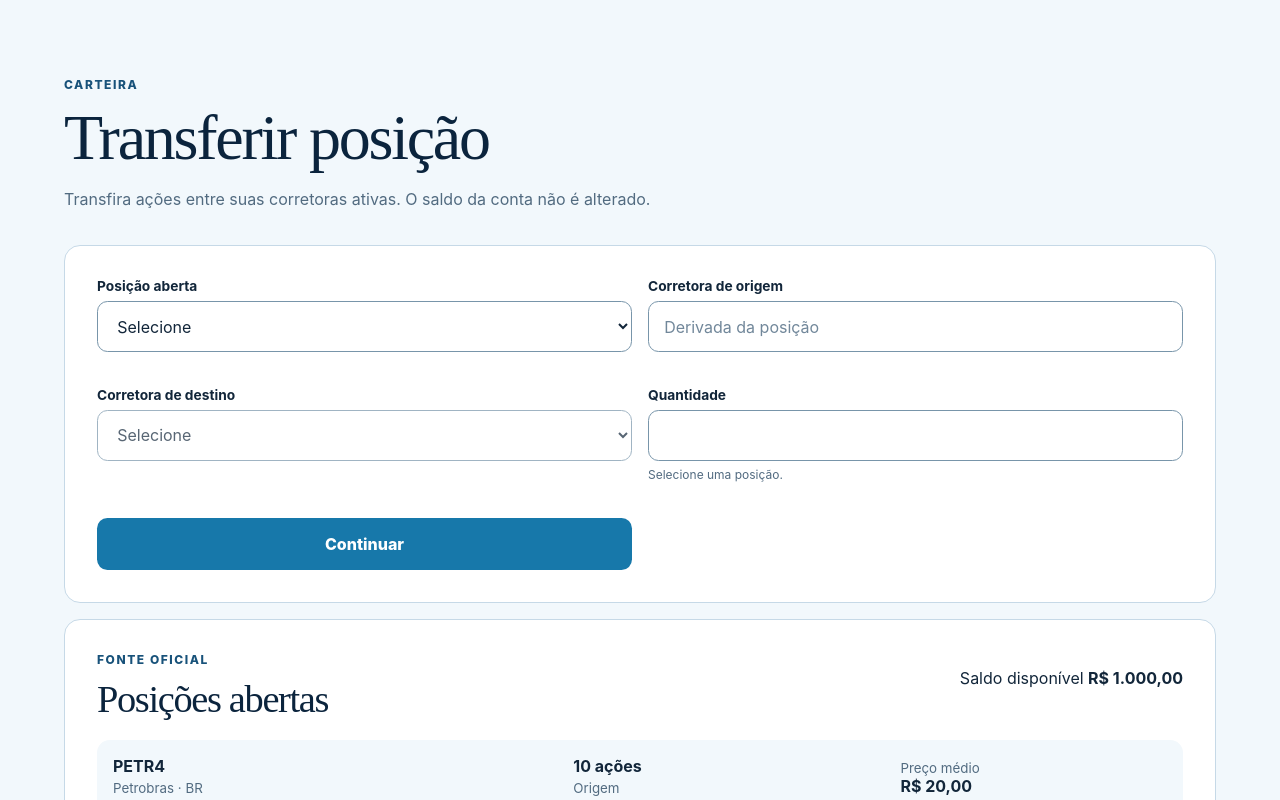
TransfersPage › orienta quando não existe destino distinto
Expected: the heading "Transferir posição" is shown, [64,102,489,173]
Select "PETR4 · Origem · 10 ações" in the dropdown labelled "Posição aberta" at (364, 326), box [97,301,632,352]
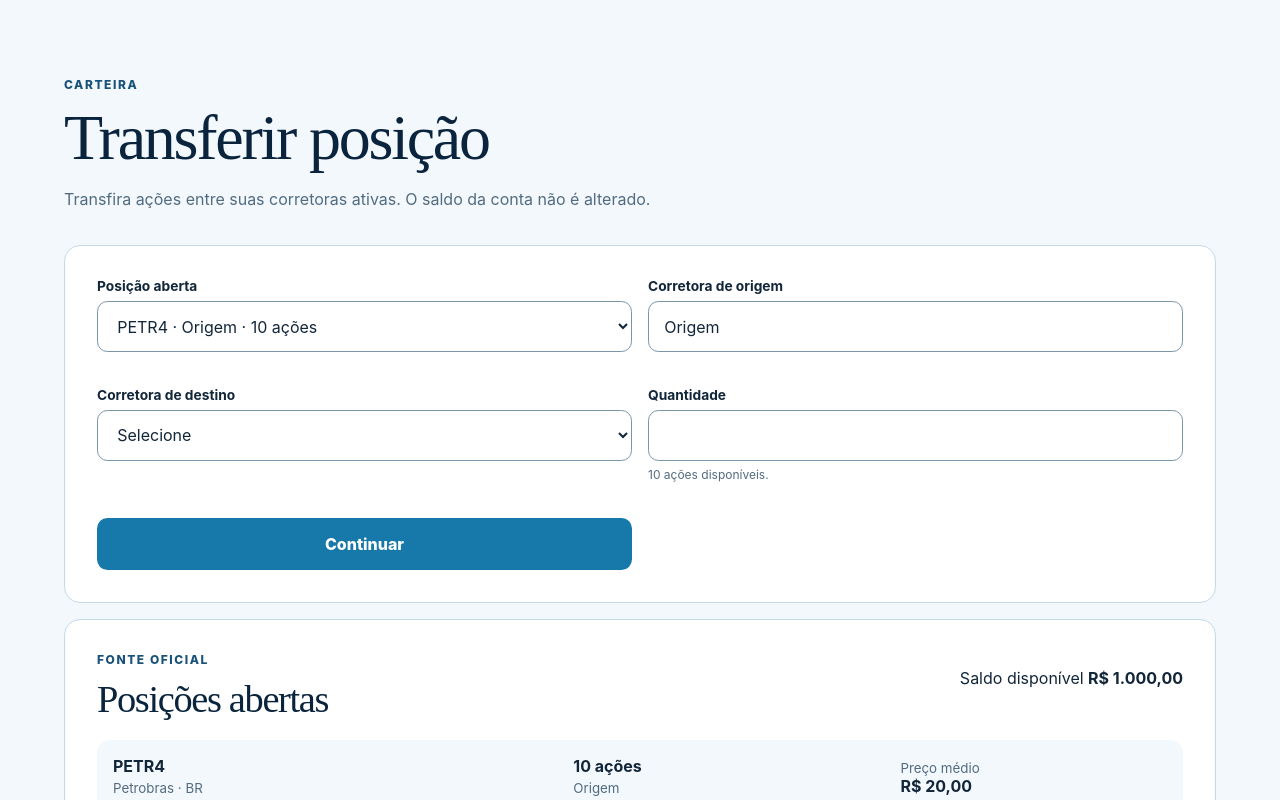
Type "1" into the field labelled "Quantidade" at (916, 435), box [648,410,1183,461]
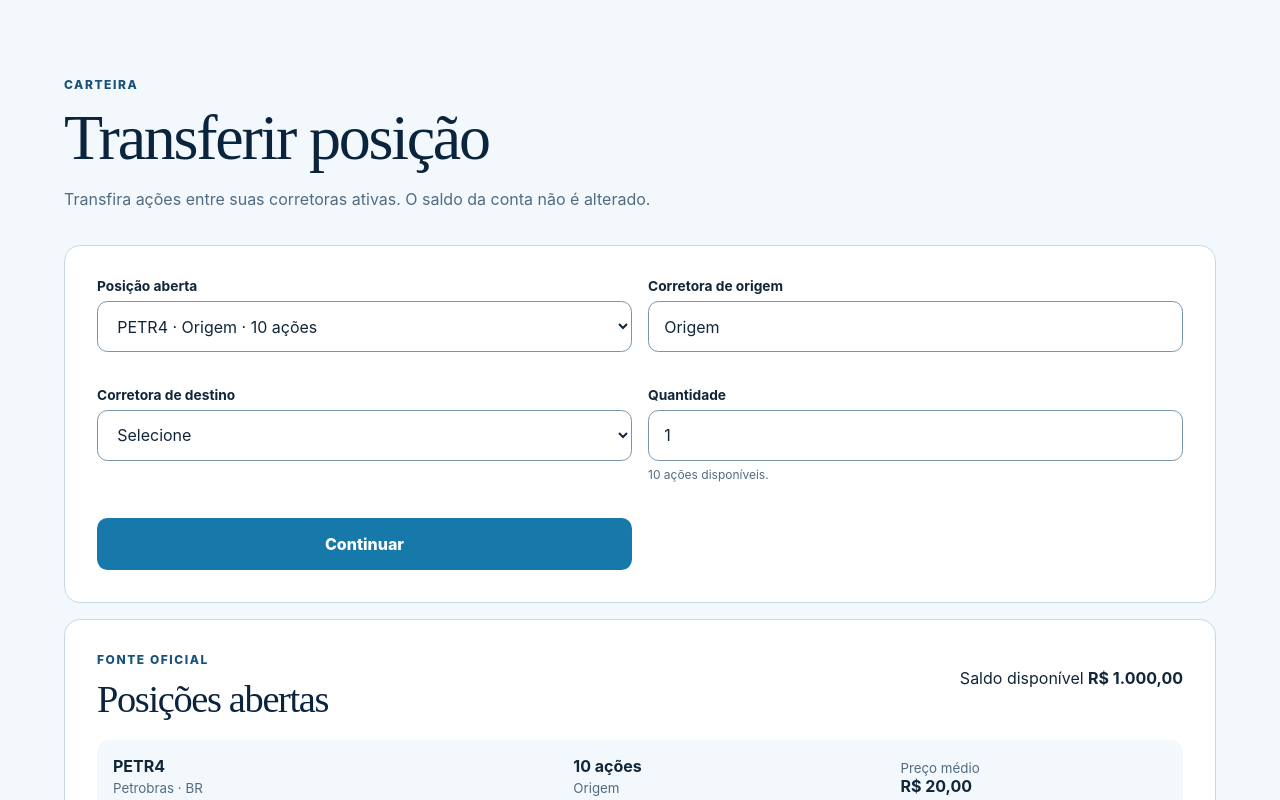
Click the button "Continuar" at (364, 544), box [97,518,632,570]
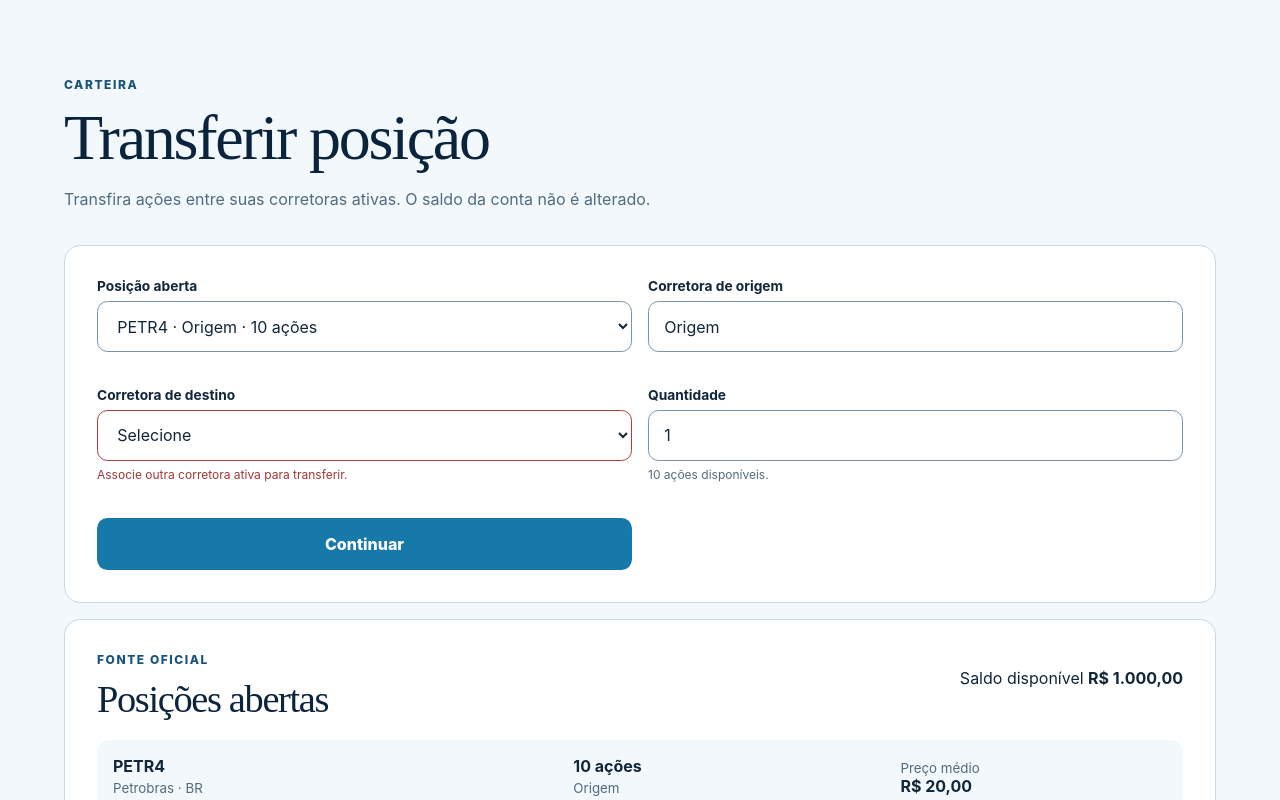
Expected: the text "Associe outra corretora ativa para transferir." is shown, [97,467,348,482]
